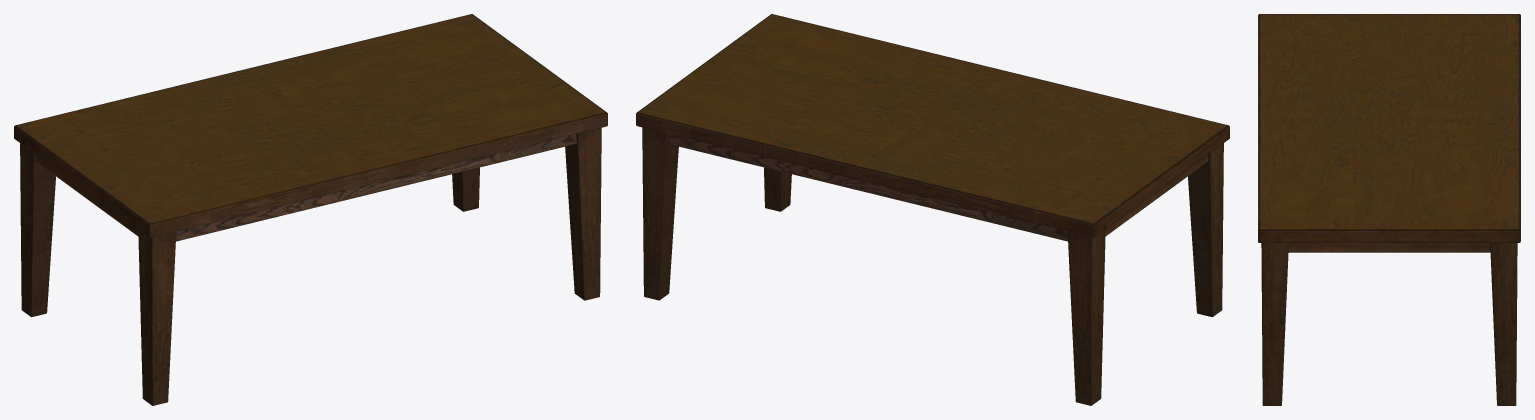
File: abo-B076NNYB3P.glb
The picture shows the model from 3 angles, left to right: view 1: azimuth 30°, elevation 25°; view 2: azimuth 150°, elevation 25°; view 3: azimuth 270°, elevation 25°; orthographic projection. The views are drawn at different scales.
Bounding box in the file's own units: 1.98 × 0.762 × 1.02.
1 material, 1 textured.
